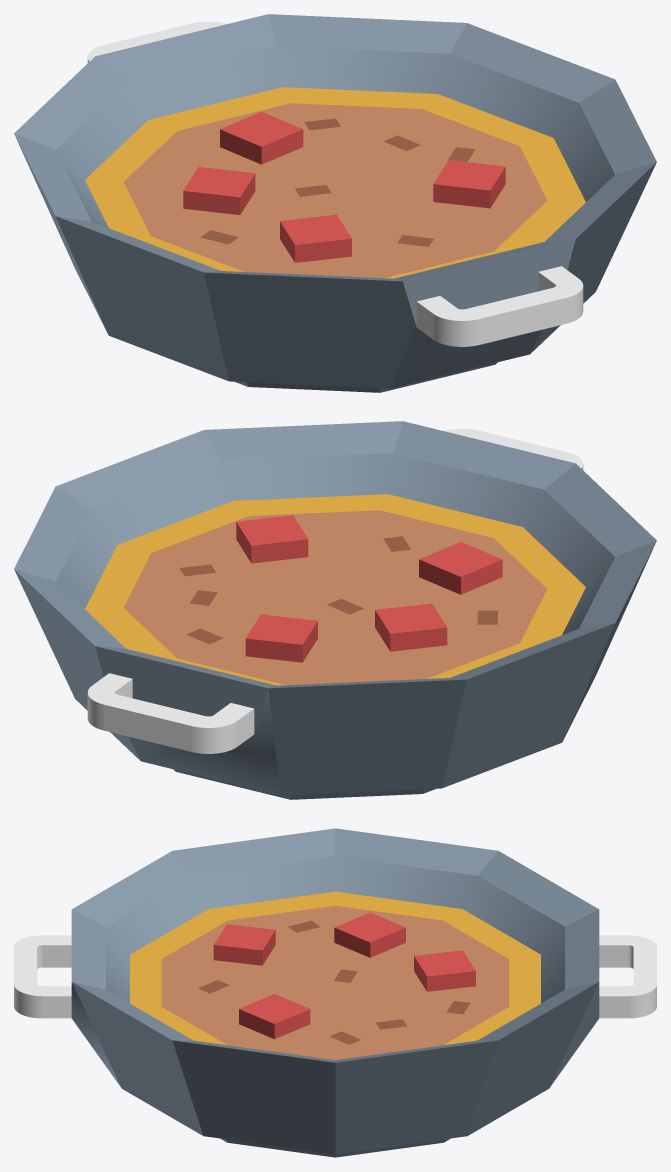
The model's file is panStew.fbx.
The picture shows the model from 3 angles, top to bottom: view 1: azimuth 30°, elevation 25°; view 2: azimuth 150°, elevation 25°; view 3: azimuth 270°, elevation 25°; orthographic projection. The views are drawn at different scales.
Parts seen in each view (by area): view 1: panStew; view 2: panStew; view 3: panStew.
Boxes of the visible parts, box(x1,y1,x2,y2) form: panStew: box(14, 14, 656, 392); panStew: box(14, 421, 656, 799); panStew: box(14, 828, 656, 1157).
Bounding box in the file's own units: 6.57 × 1.75 × 7.62.
